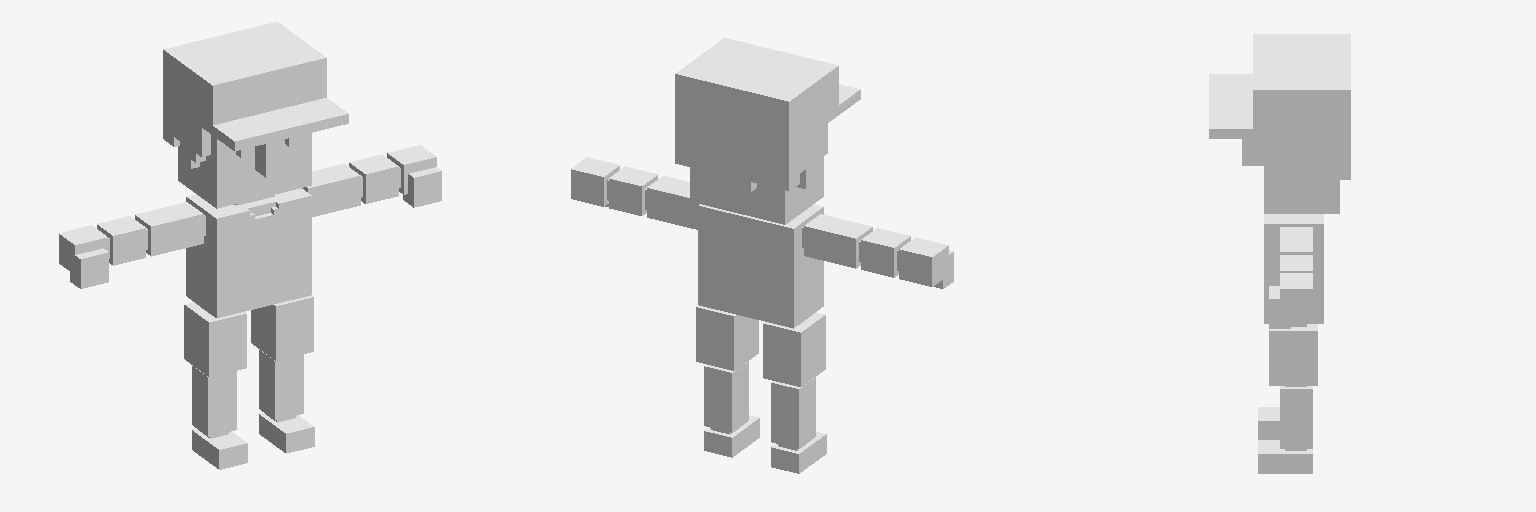
Rendered from boniceman.obj.
3 renders of one model, left to right at view 1: azimuth 30°, elevation 25°; view 2: azimuth 150°, elevation 25°; view 3: azimuth 270°, elevation 25°, orthographic.
Visible parts, largest first — view 1: boniceman; view 2: boniceman; view 3: boniceman.
Boxes of the visible parts, x1,y1,x2,y2 form: boniceman: [59, 22, 441, 469]; boniceman: [571, 38, 953, 473]; boniceman: [1209, 34, 1350, 473].
Bounding box in the file's own units: 76 × 78 × 26.